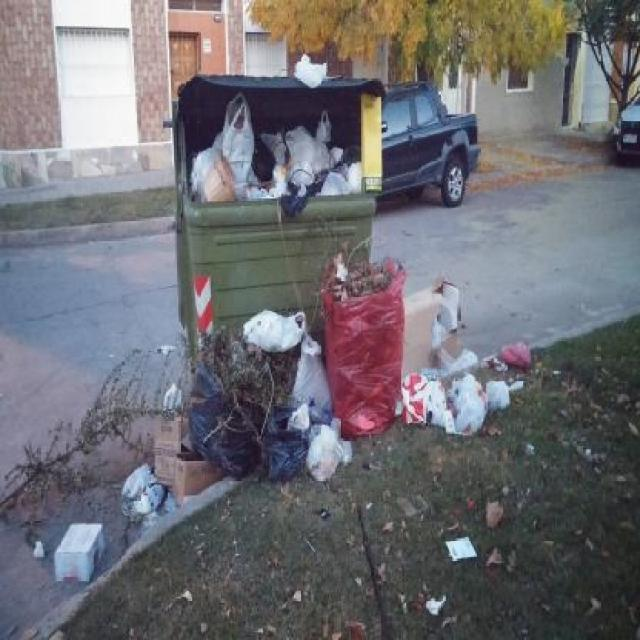garbage: (194, 83, 382, 224), (229, 285, 334, 488), (400, 286, 517, 444), (134, 426, 207, 524), (55, 514, 100, 576)
